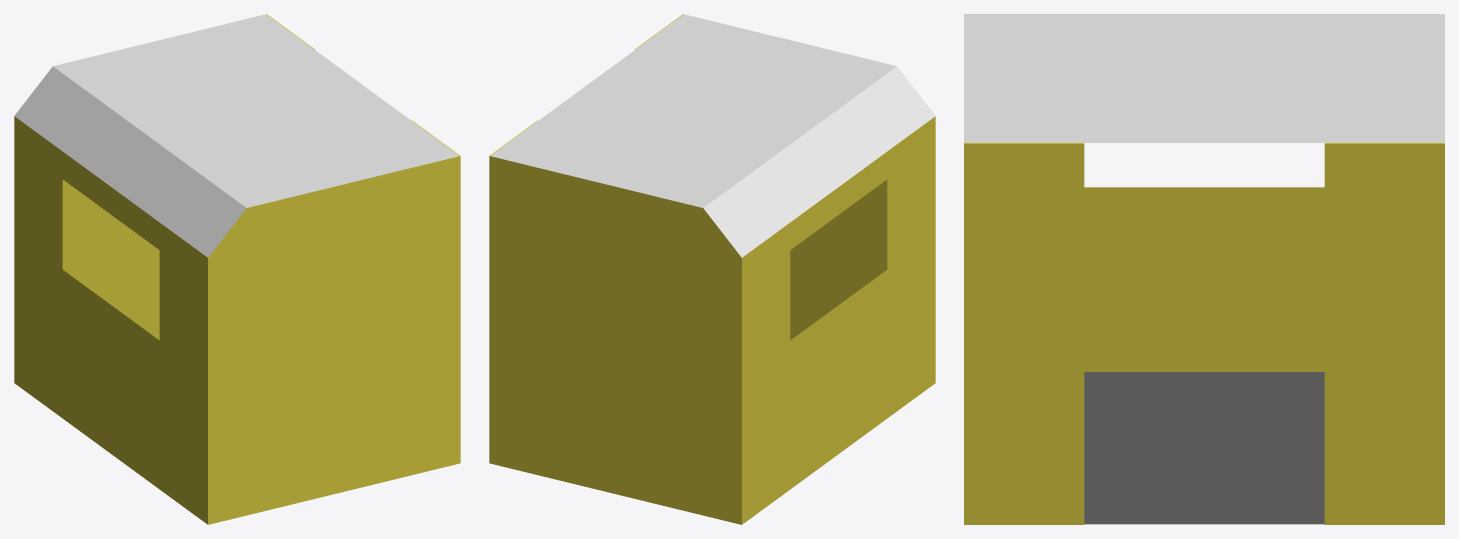
File: coupe_box (5).fbx
3 views of the same model, side by side, from view 1: azimuth 30°, elevation 25°; view 2: azimuth 150°, elevation 25°; view 3: azimuth 270°, elevation 25° (orthographic). The views are drawn at different scales.
Visible parts, largest first — view 1: Cube; view 2: Cube; view 3: Cube.
Boxes of the visible parts, left/top/right/bottom form: Cube: left=14, top=14, right=460, bottom=524; Cube: left=489, top=14, right=935, bottom=524; Cube: left=964, top=14, right=1444, bottom=524.
Size of the model in its own units: 301 by 350 by 400.
